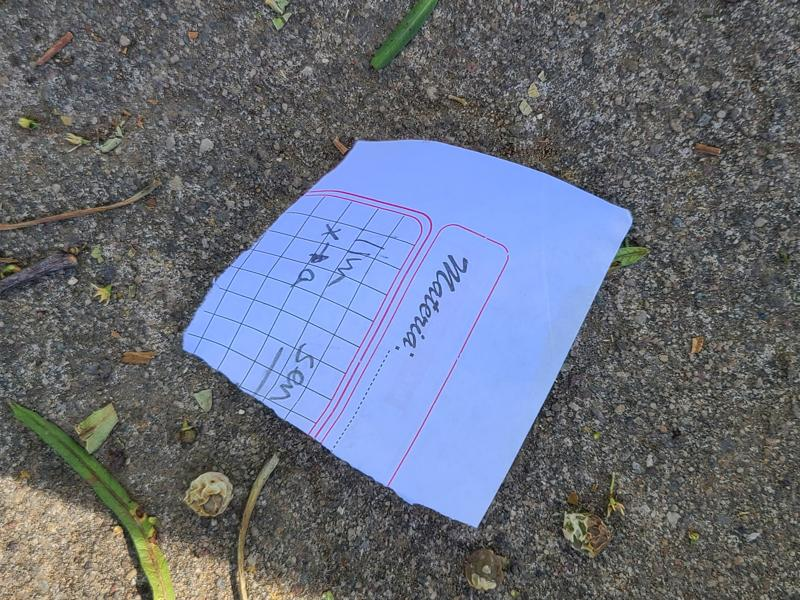papel: (181, 140, 633, 529)
